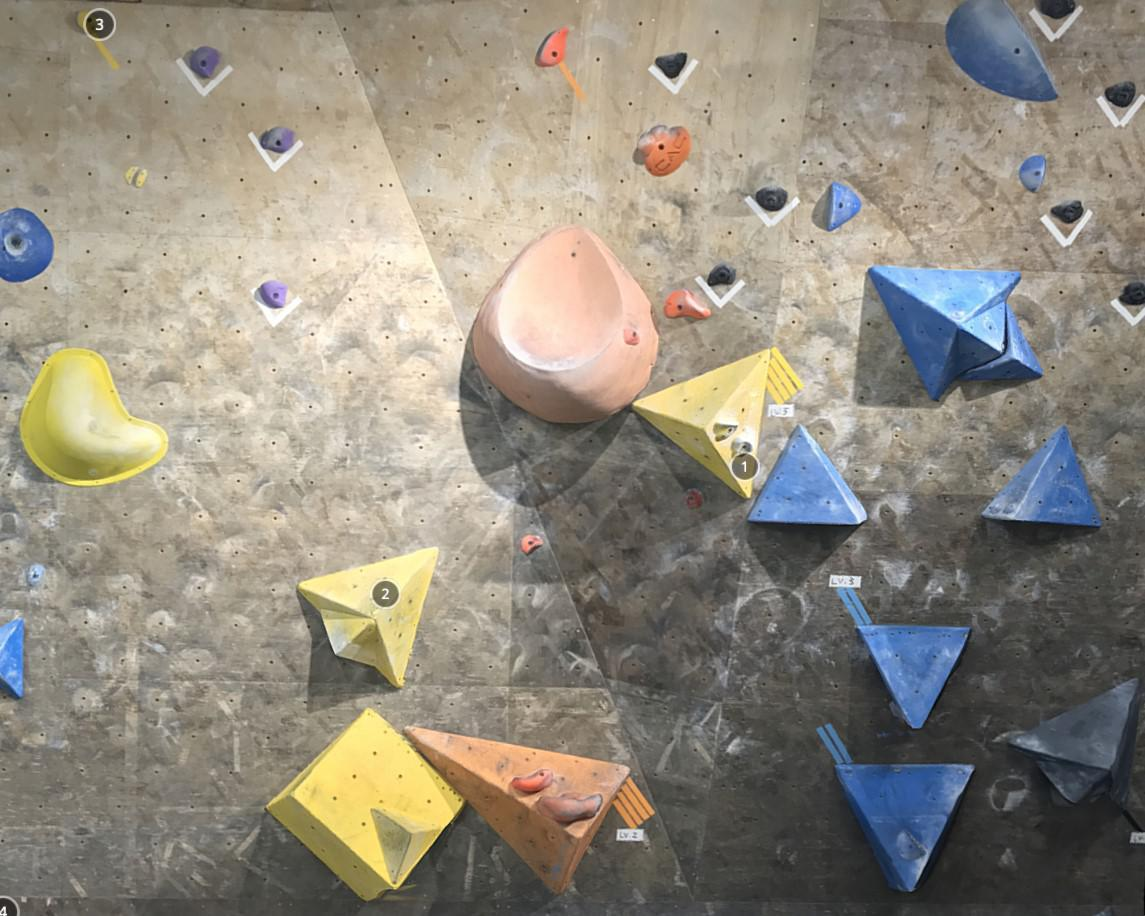hold: (265, 707, 468, 901), (404, 725, 631, 896), (471, 223, 660, 424), (19, 347, 169, 487), (631, 348, 770, 499), (868, 265, 1022, 400), (297, 546, 440, 688), (833, 762, 976, 892), (1007, 677, 1143, 808), (982, 425, 1102, 528), (856, 624, 971, 730), (747, 425, 868, 524), (946, 0, 1059, 102), (959, 302, 1045, 382), (370, 807, 441, 885), (0, 207, 54, 283), (1036, 757, 1112, 805), (958, 299, 1006, 374), (320, 608, 377, 668), (639, 125, 691, 176), (0, 618, 24, 699), (826, 181, 862, 232), (538, 793, 602, 821), (664, 287, 712, 320), (534, 26, 571, 67), (1018, 154, 1046, 192), (189, 46, 220, 78), (260, 126, 296, 153), (896, 829, 927, 860), (512, 769, 553, 792), (1051, 198, 1084, 223), (655, 52, 688, 77), (259, 280, 288, 308), (1105, 81, 1136, 107), (756, 186, 788, 211), (707, 263, 737, 286), (1039, 0, 1076, 18), (713, 416, 738, 441), (1118, 282, 1145, 305), (77, 8, 99, 33), (27, 562, 46, 588), (731, 436, 753, 458), (521, 533, 543, 554), (685, 488, 704, 510), (124, 166, 140, 185), (135, 168, 148, 188)
